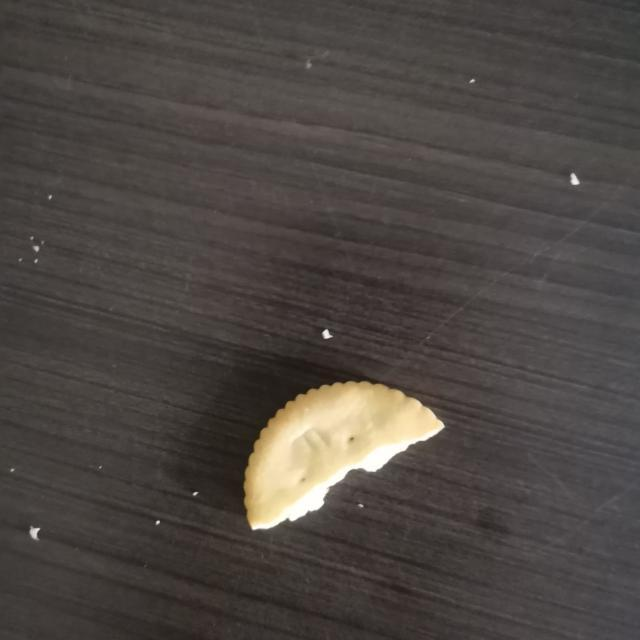Broken: (242, 379, 445, 532)
